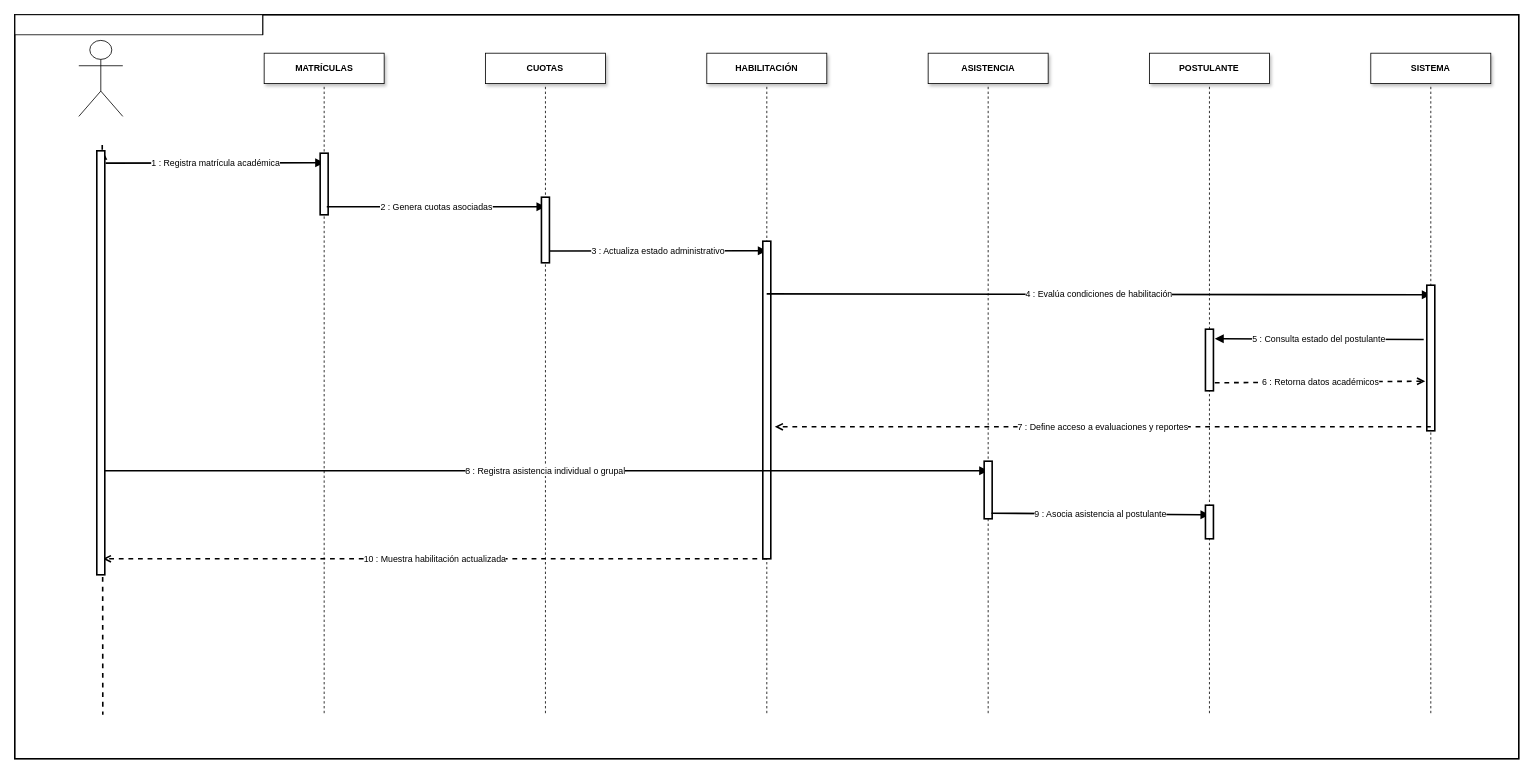
The diagram is 1533 pixels wide and 773 high, and some of its shapes have lost their labels. Here are the shapes that lost their labels. From the top down, the centre of each, then its label:
At (138,24): "CONTROL DE CUOTAS Y ASISTENCIA".
At (100,78): "A: Secretaría/Tutor".
